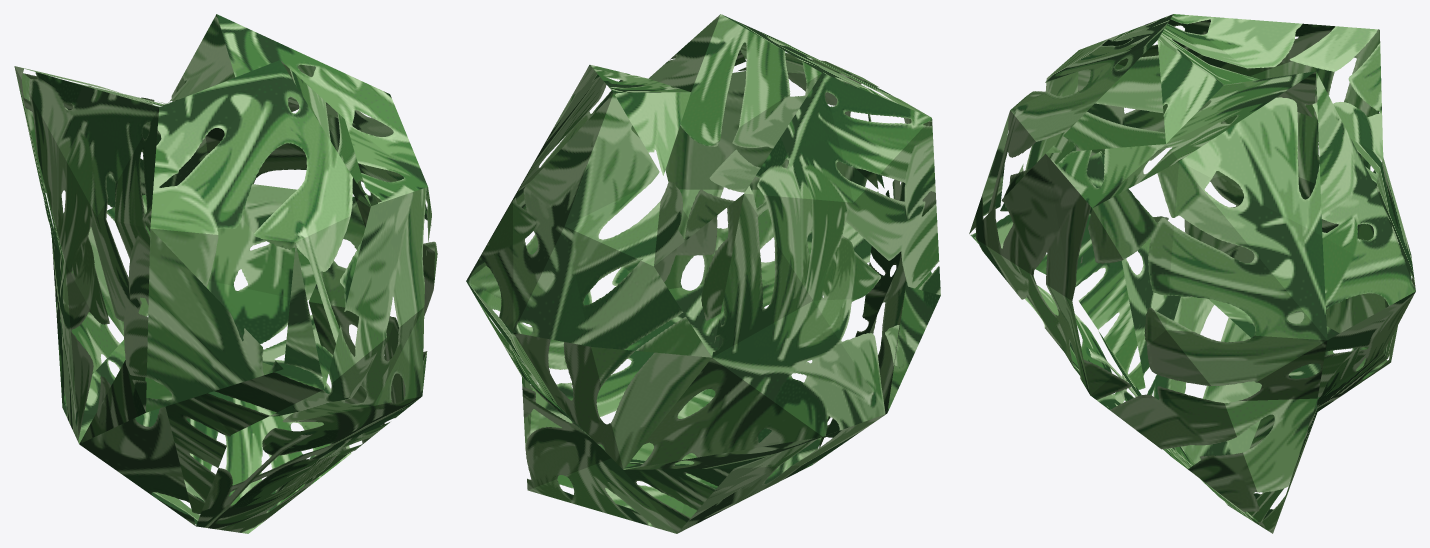
Rendered from Busch2 1.fbx.
3 views of the same model, side by side, from view 1: azimuth 30°, elevation 25°; view 2: azimuth 150°, elevation 25°; view 3: azimuth 270°, elevation 25° (orthographic). The views are drawn at different scales.
Visible parts, largest first — view 1: busch2; view 2: busch2; view 3: busch2.
Part boxes in pixels (x1,y1,x2,y2): busch2: (14,14,437,533); busch2: (466,14,940,533); busch2: (969,14,1415,533).
Size of the model in its own units: 200 by 272 by 239.
Materials: 1 (1 with a texture image).
